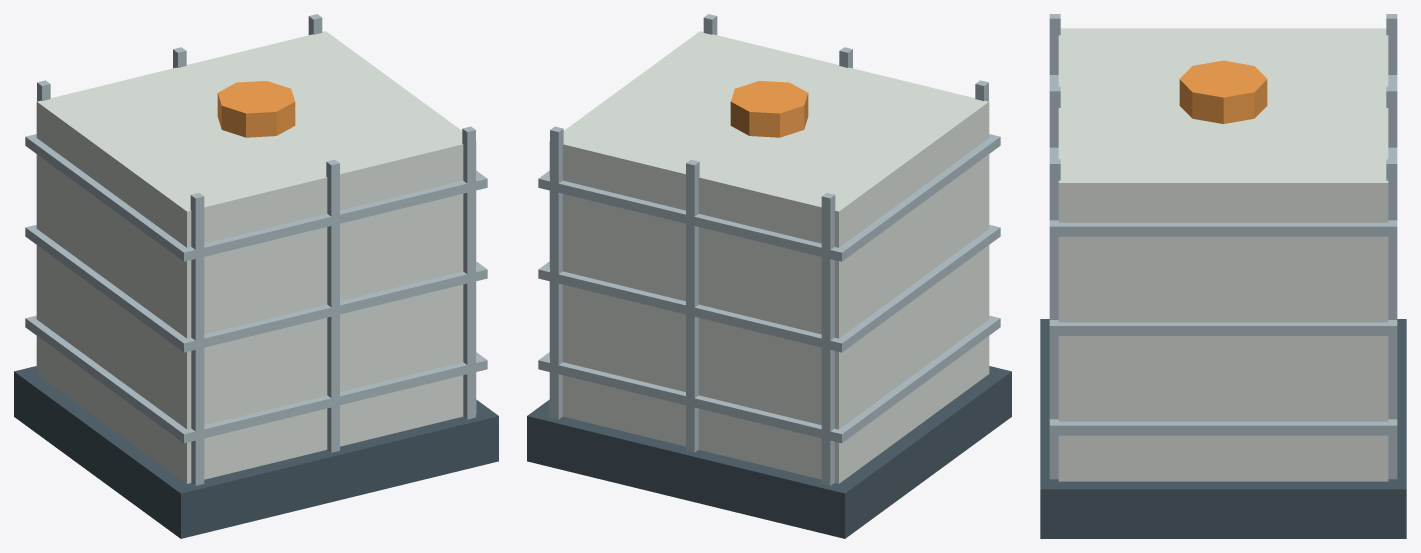
Rendered from ibc-liquid-tote.glb.
3 renders of one model, left to right at view 1: azimuth 30°, elevation 25°; view 2: azimuth 150°, elevation 25°; view 3: azimuth 270°, elevation 25°, orthographic. The views are drawn at different scales.
Visible parts, largest first — view 1: cream, steel, dark, orange; view 2: cream, steel, dark, orange; view 3: cream, dark, steel, orange.
Boxes of the visible parts, x1,y1,x2,y2 form: cream: [36, 31, 476, 483]; steel: [25, 14, 487, 485]; dark: [14, 366, 498, 538]; orange: [217, 81, 295, 137]; cream: [549, 31, 989, 483]; steel: [538, 14, 1000, 485]; dark: [527, 366, 1011, 538]; orange: [730, 81, 808, 137]; cream: [1058, 28, 1388, 481]; dark: [1040, 319, 1406, 538]; steel: [1049, 14, 1397, 479]; orange: [1179, 60, 1267, 123].
Bounding box in the file's own units: 1.1 × 1.13 × 1.
